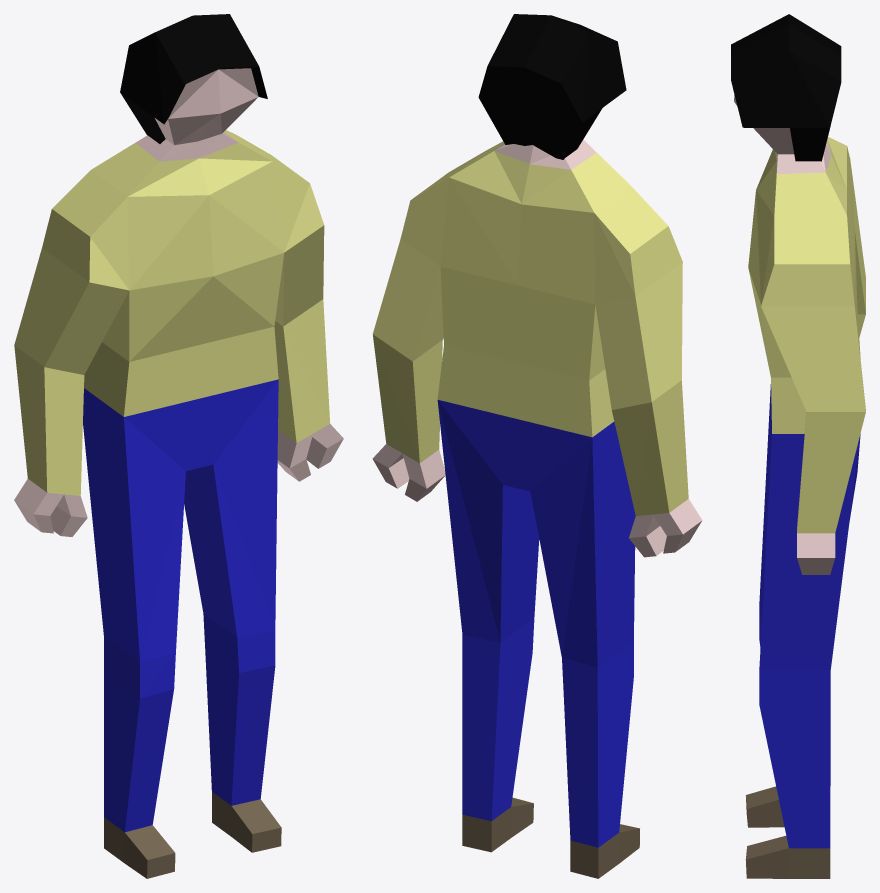
The model's file is NewPerson.fbx.
The picture shows the model from 3 angles, left to right: view 1: azimuth 30°, elevation 25°; view 2: azimuth 150°, elevation 25°; view 3: azimuth 270°, elevation 25°; orthographic projection.
Parts seen in each view (by area): view 1: pCube3; view 2: pCube3; view 3: pCube3.
Part boxes in pixels (x1,y1,x2,y2): pCube3: (14, 14, 343, 878); pCube3: (372, 14, 702, 878); pCube3: (731, 14, 865, 878).
Bounding box in the file's own units: 2.14 × 5.48 × 0.8151.
